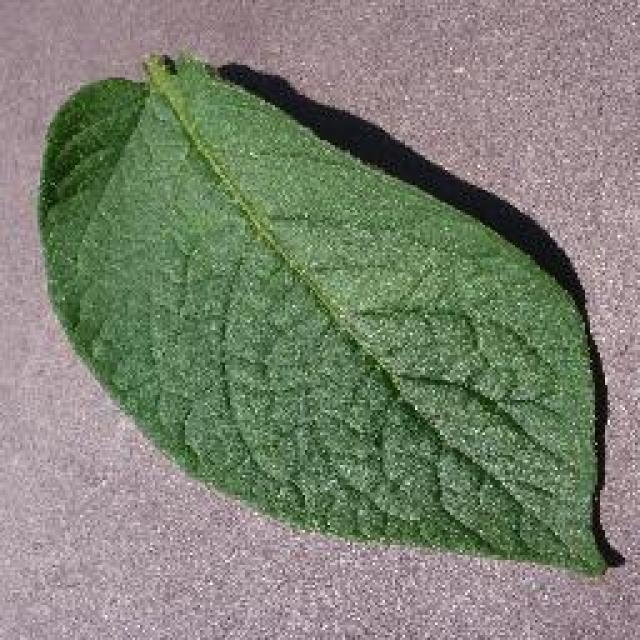Potato___healthy: (32, 46, 612, 579)
